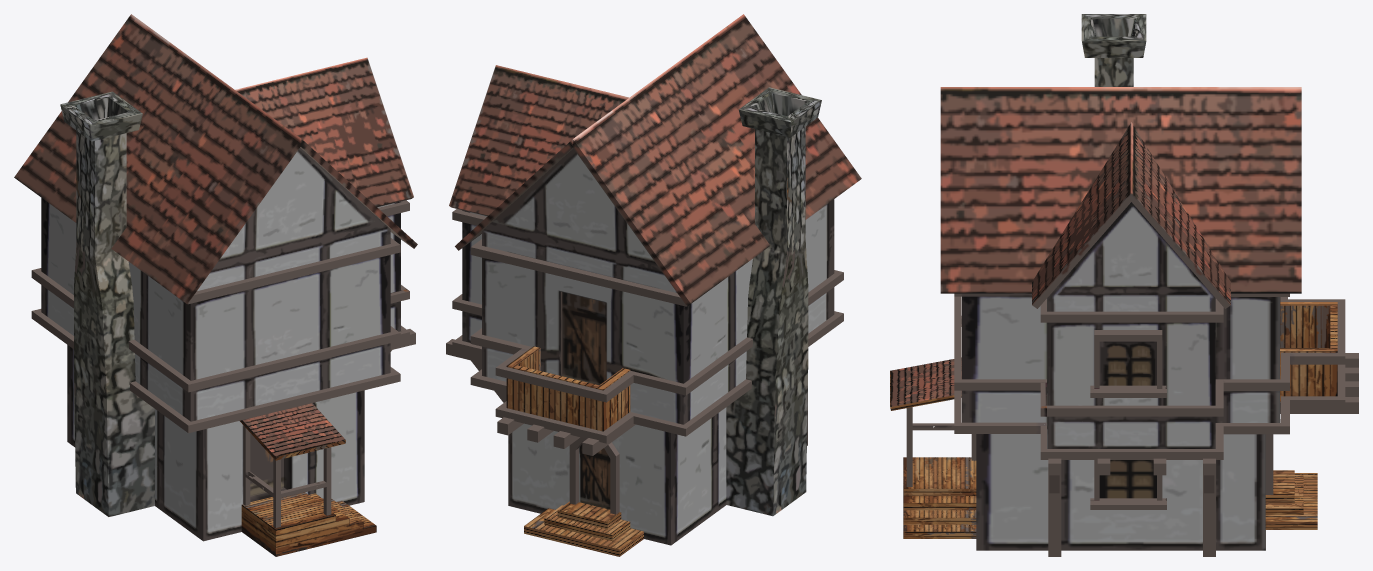
Rendered from Casa_comum 9.fbx.
The picture shows the model from 3 angles, left to right: view 1: azimuth 30°, elevation 25°; view 2: azimuth 150°, elevation 25°; view 3: azimuth 270°, elevation 25°; orthographic projection. The views are drawn at different scales.
Parts seen in each view (by area): view 1: Casa_comum 9; view 2: Casa_comum 9; view 3: Casa_comum 9.
Part boxes in pixels (x1,y1,x2,y2): Casa_comum 9: (14, 14, 417, 556); Casa_comum 9: (446, 14, 861, 556); Casa_comum 9: (890, 14, 1358, 556).
Size of the model in its own units: 527 by 643 by 647.
